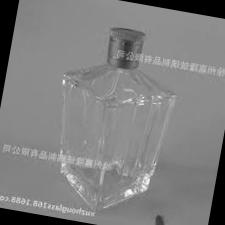glass: (13, 3, 209, 225)
